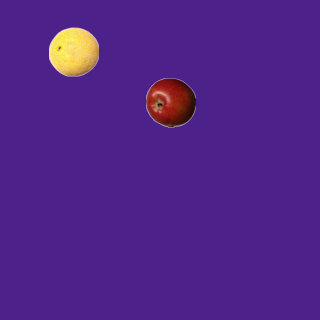Apple Braeburn: (145, 77, 195, 127)
Cantaloupe 1: (48, 26, 98, 76)
